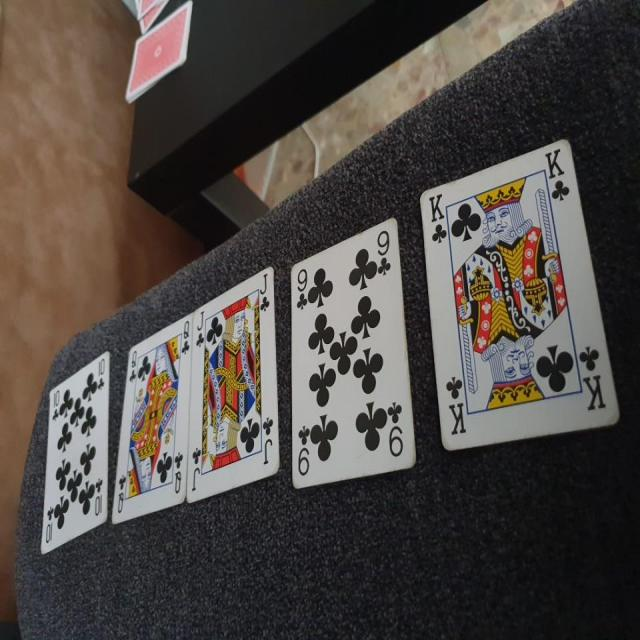10 Trefoils: (41, 348, 113, 548)
9 Trefoils: (289, 217, 420, 492)
J Trefoils: (186, 265, 283, 505)
K Trefoils: (418, 140, 620, 450)
Q Trefoils: (110, 311, 191, 526)
